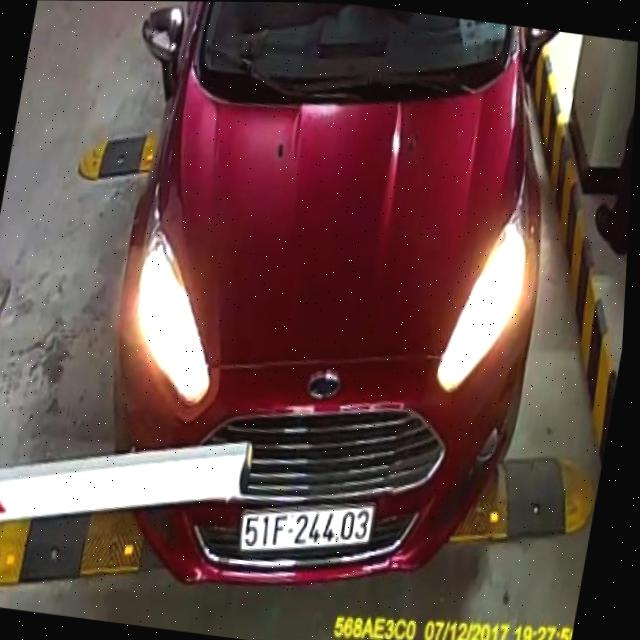car: (101, 1, 572, 595)
plate: (234, 500, 382, 553)
